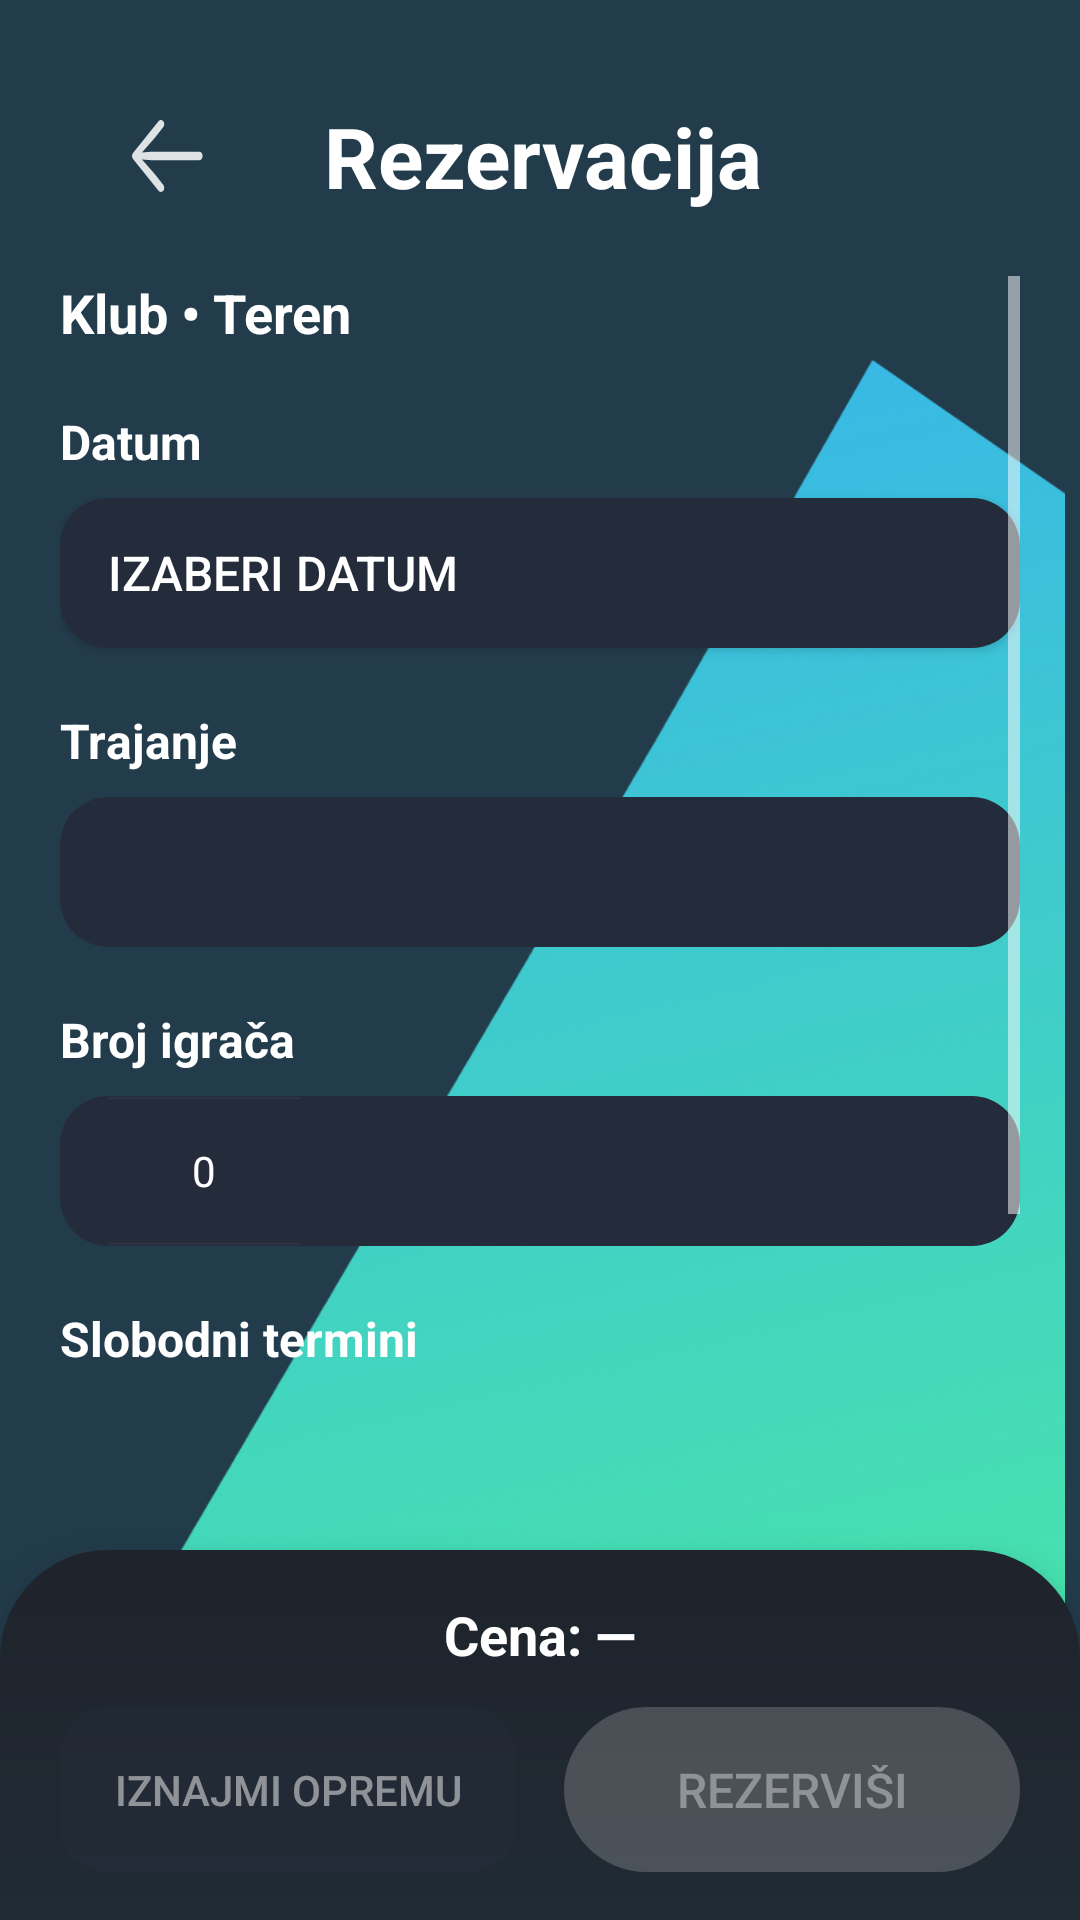

Where icons sit on this 1080 x 1920 app screen, as (x1, y1, x2, y2):
arrow left: (132, 120, 203, 192)
